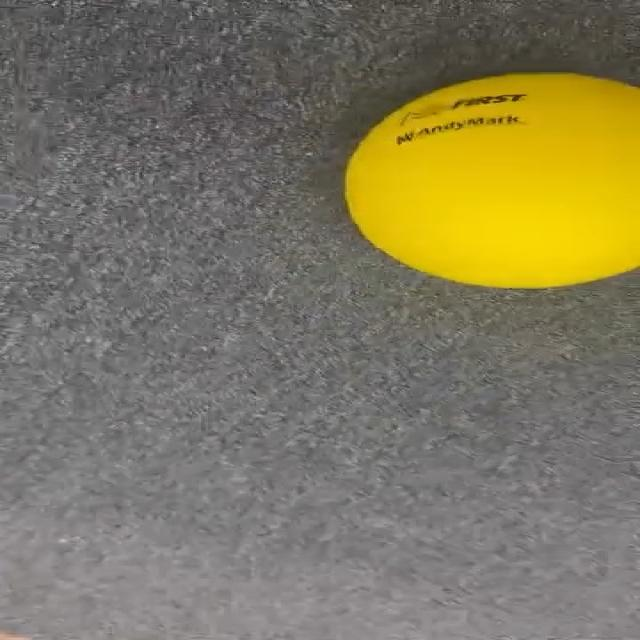Fuels: (347, 71, 638, 288)
